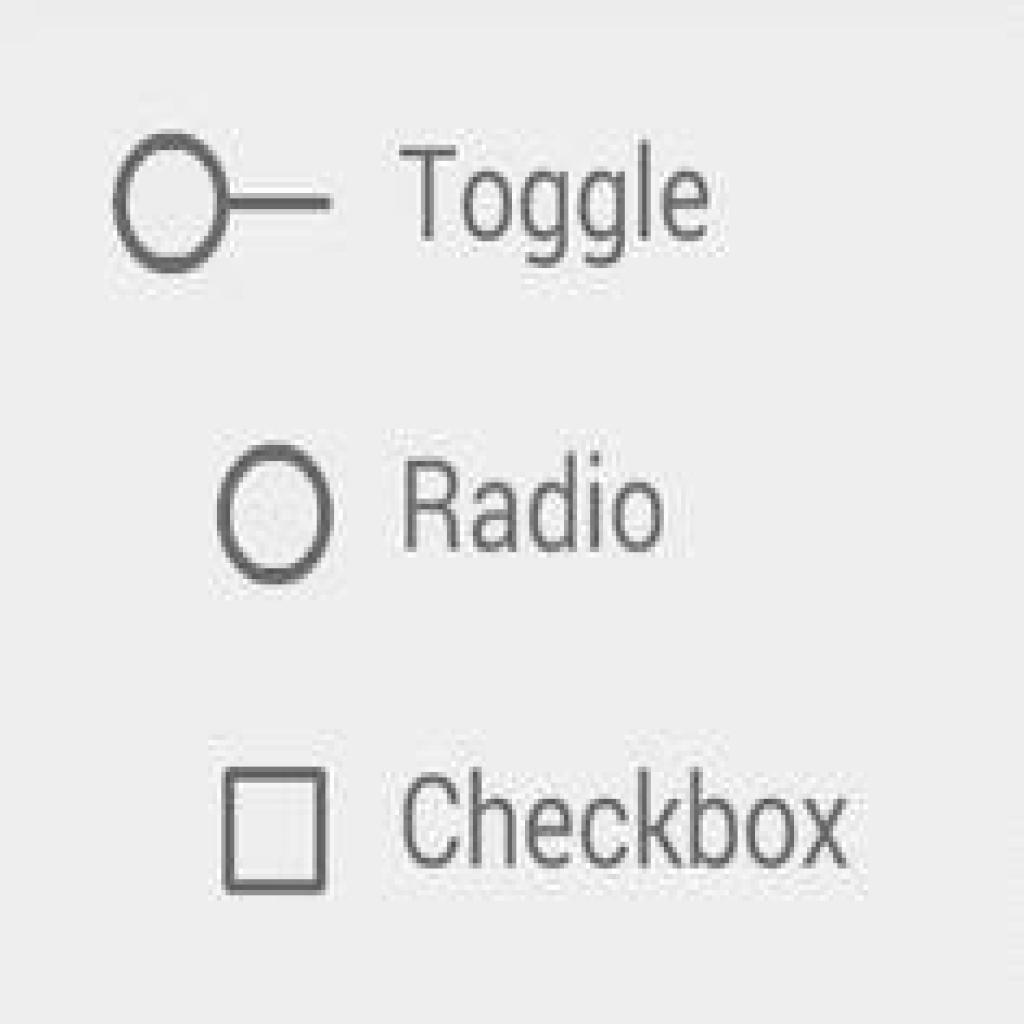checkbox: (224, 771, 326, 894)
label: (401, 762, 862, 888), (395, 134, 718, 270), (396, 446, 666, 567)
radio: (212, 440, 333, 599)
